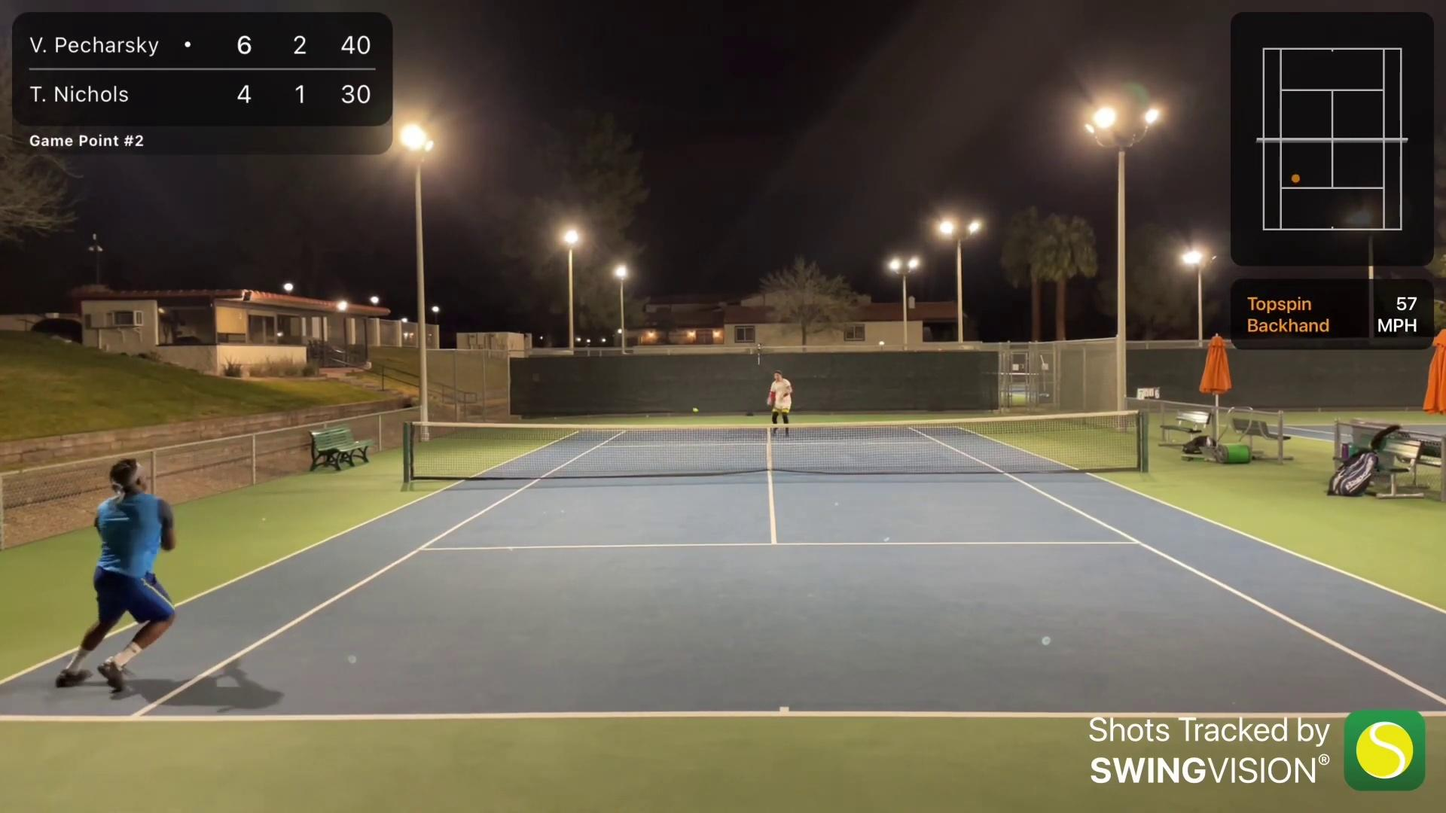ball: (689, 403, 706, 417)
